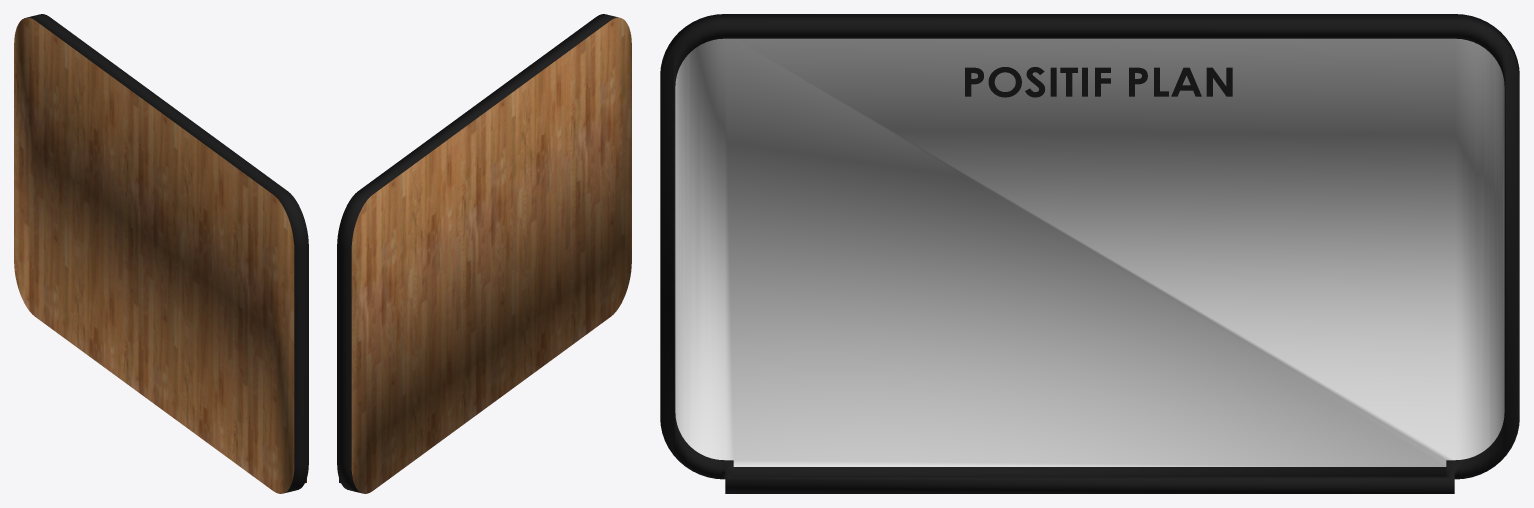
Rendered from papan buletin 3.fbx.
3 renders of one model, left to right at view 1: azimuth 30°, elevation 25°; view 2: azimuth 150°, elevation 25°; view 3: azimuth 270°, elevation 25°, orthographic. The views are drawn at different scales.
Visible parts, largest first — view 1: G-__556113; view 2: G-__556113; view 3: G-__556113, POSITIF PLAN.
Part boxes in pixels (x1,y1,x2,y2): G-__556113: (14,14,308,493); G-__556113: (337,14,631,493); G-__556113: (660,14,1519,493); POSITIF PLAN: (965,67,1232,97).
Size of the model in its own units: 8.96 by 74.68 by 128.
Materials: 5 (3 with a texture image).
